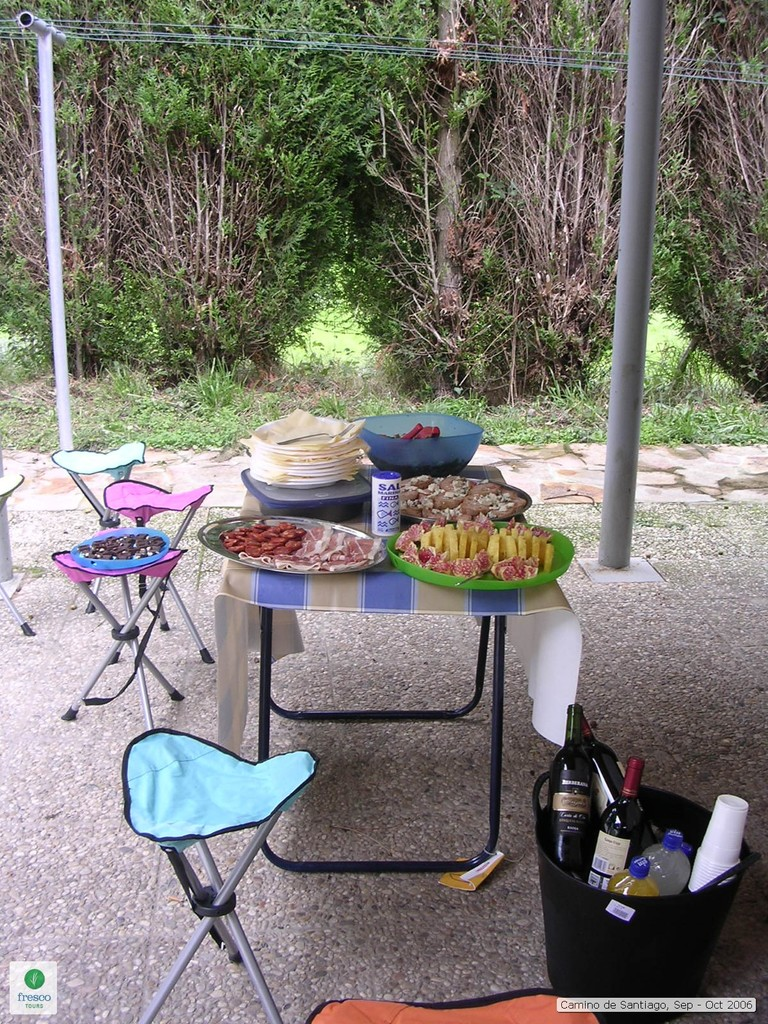Chair: (125, 716, 303, 1023)
